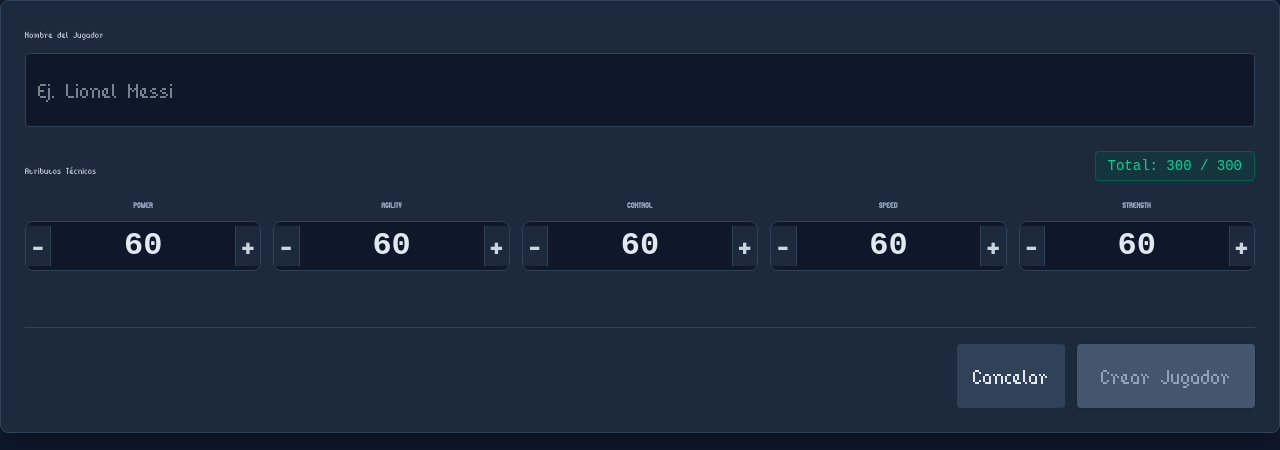
Test: PlayerForm Component › deshabilita el submit y muestra advertencia si la sumatoria es menor a 300
Type "Test" into the field labelled "Nombre del Jugador".
click(640, 90); type("Test")  # box [25, 53, 1255, 127]
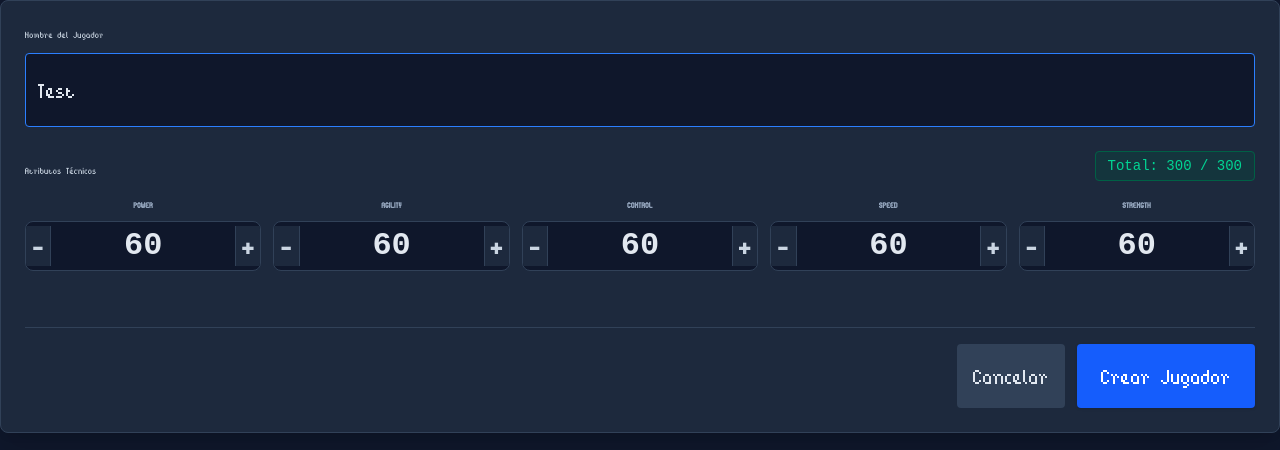
Click the button "-" below "Power".
click(39, 246)  # box [26, 226, 51, 266]
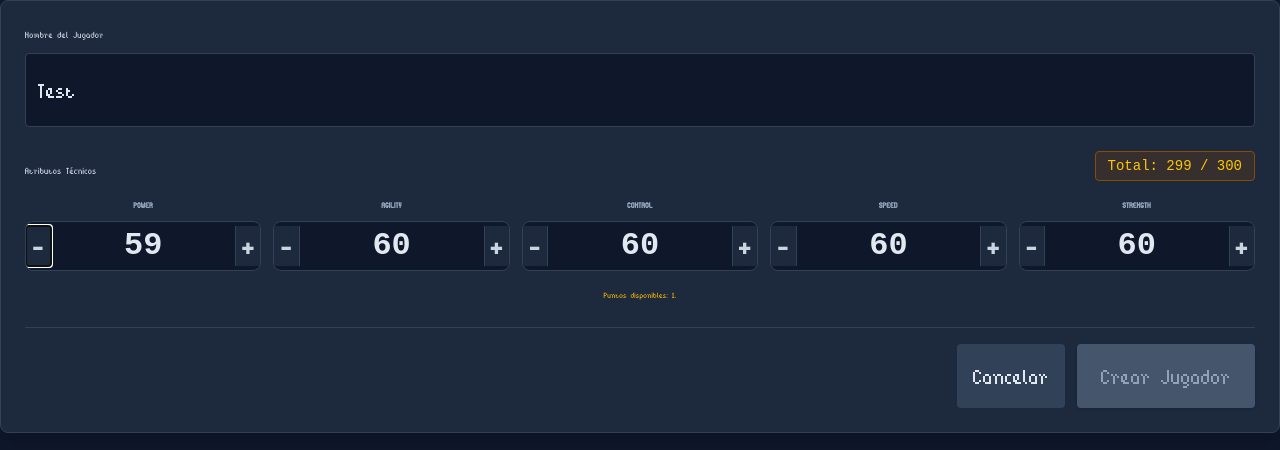
Check: the text "Puntos disponibles: 1." is shown, box [604, 290, 676, 300]
Check: the button "Crear Jugador" is disabled, box [1077, 344, 1255, 408]
